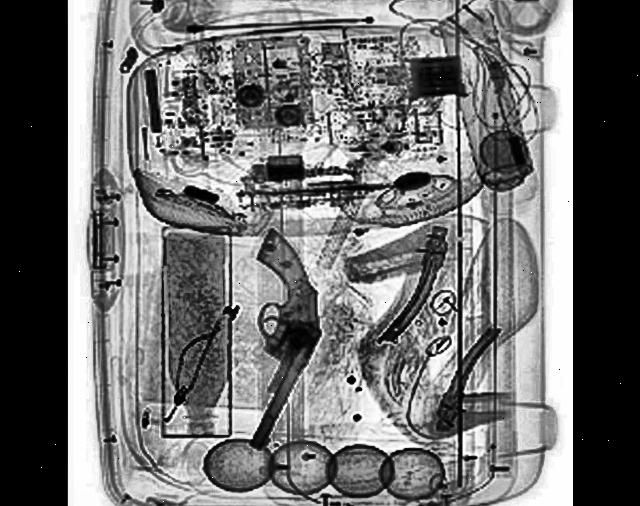Gun: (249, 227, 323, 455)
